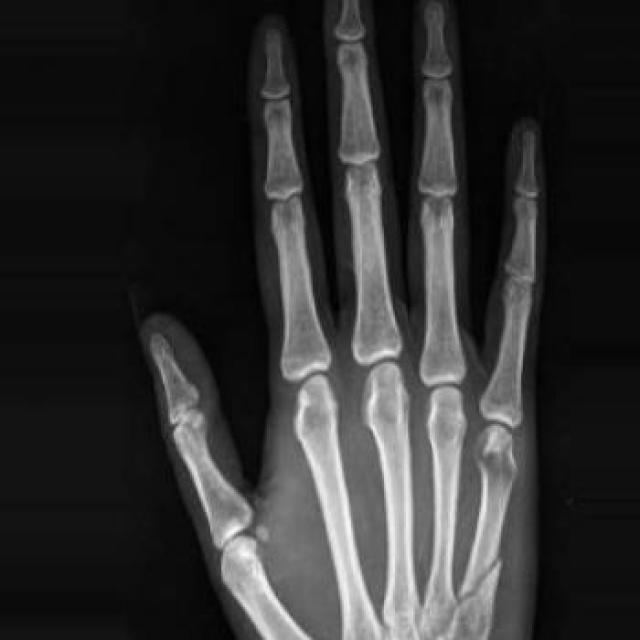Fracture: (455, 549, 511, 608)
